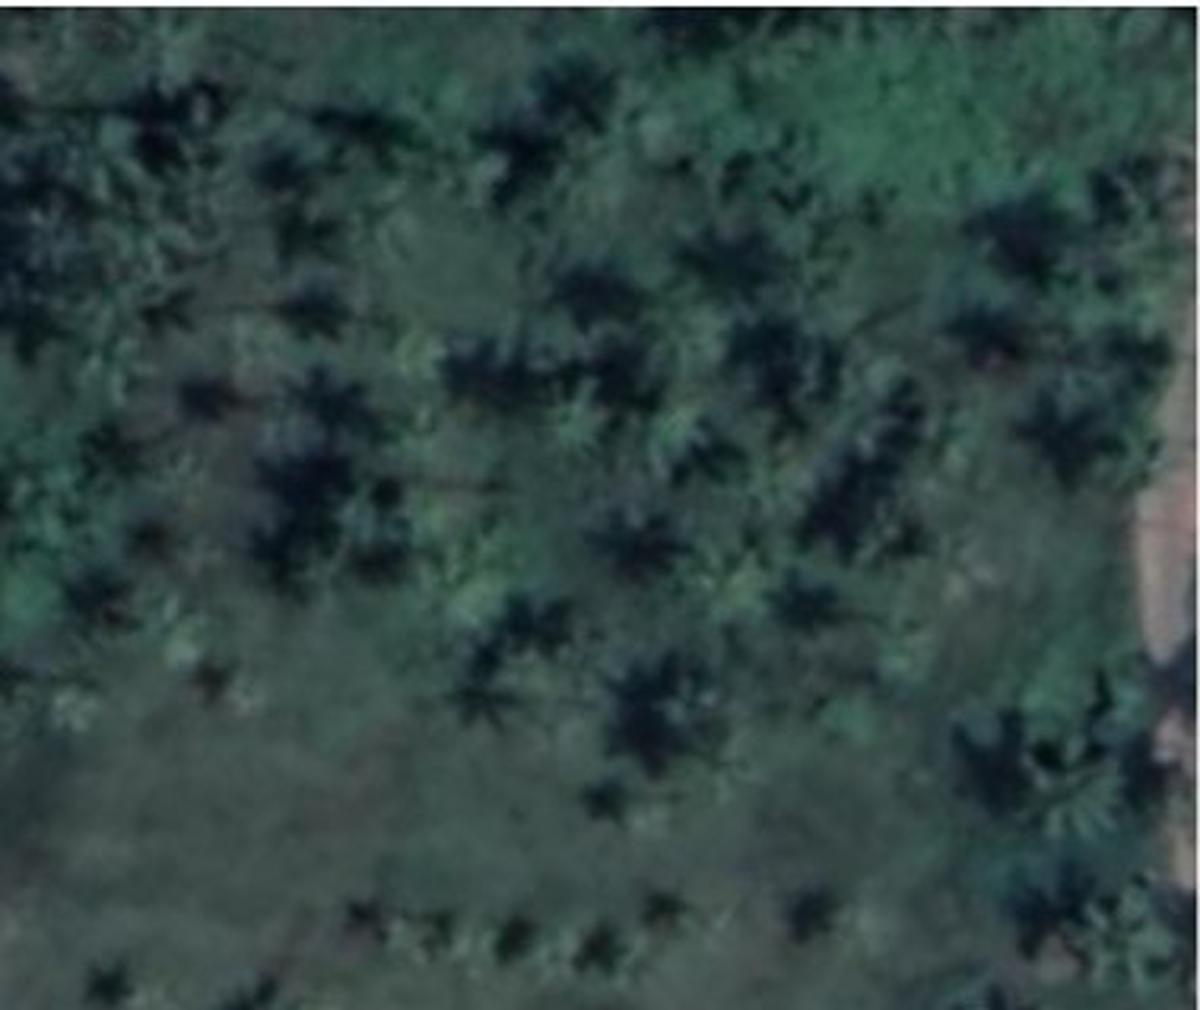coconut: (1012, 736, 1133, 854), (663, 524, 793, 632), (520, 377, 628, 492), (622, 282, 736, 387), (476, 657, 584, 762), (666, 708, 771, 806), (311, 174, 419, 269), (1095, 419, 1200, 511), (380, 406, 473, 505), (530, 123, 628, 215), (365, 311, 466, 397), (863, 603, 949, 705), (622, 390, 714, 482), (203, 308, 298, 397), (409, 536, 488, 628)
